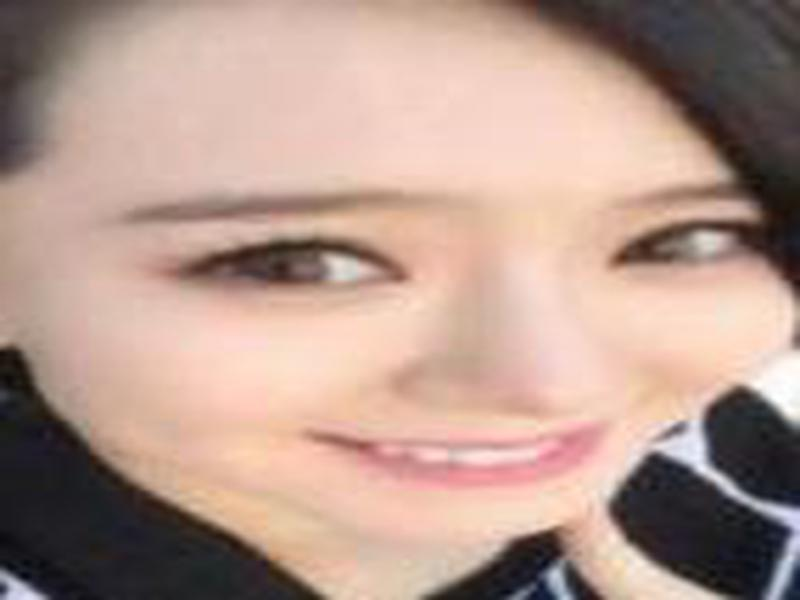without_mask: (31, 38, 800, 551)
